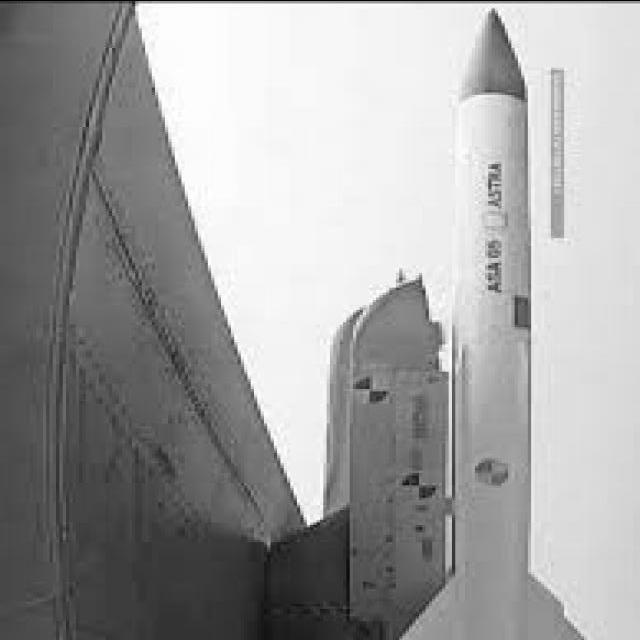missile: (398, 0, 578, 640), (426, 0, 540, 580)
